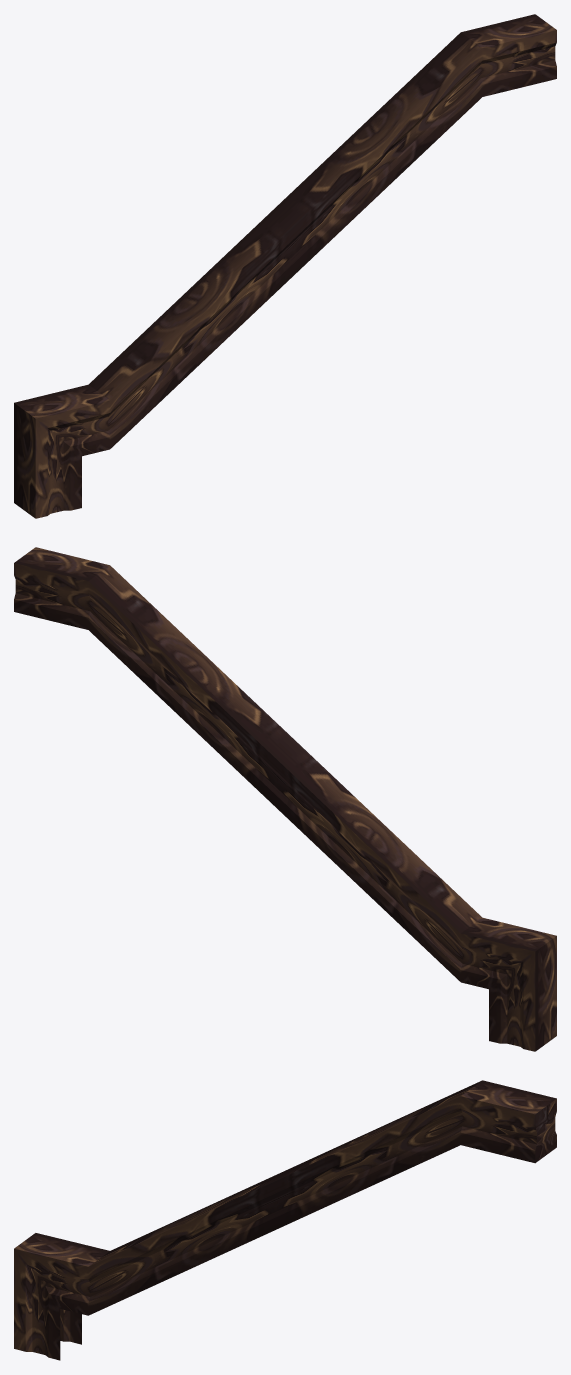
The model's file is sn_jixie_taijiefushou_001.FBX.
The picture shows the model from 3 angles, top to bottom: view 1: azimuth 30°, elevation 25°; view 2: azimuth 150°, elevation 25°; view 3: azimuth 330°, elevation 25°; orthographic projection.
Visible parts, largest first — view 1: sn_jixie_taijiefushou_001; view 2: sn_jixie_taijiefushou_001; view 3: sn_jixie_taijiefushou_001.
Boxes of the visible parts, x1=… form: sn_jixie_taijiefushou_001: x1=14, y1=14, x2=556, y2=518; sn_jixie_taijiefushou_001: x1=14, y1=547, x2=556, y2=1051; sn_jixie_taijiefushou_001: x1=14, y1=1080, x2=556, y2=1360.
Size of the model in its own units: 14.29 by 1.03 by 9.48.
